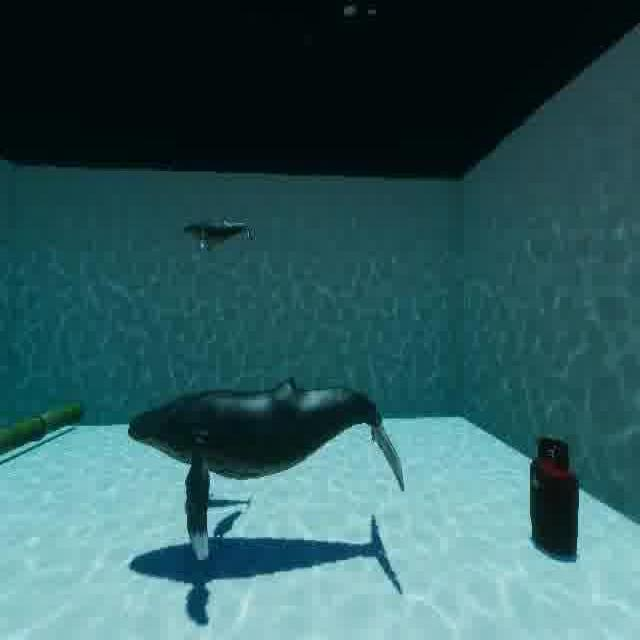Cylinder: (518, 427, 592, 574)
Pipe: (0, 382, 88, 476)
Whale: (124, 359, 423, 570), (169, 199, 265, 261)
